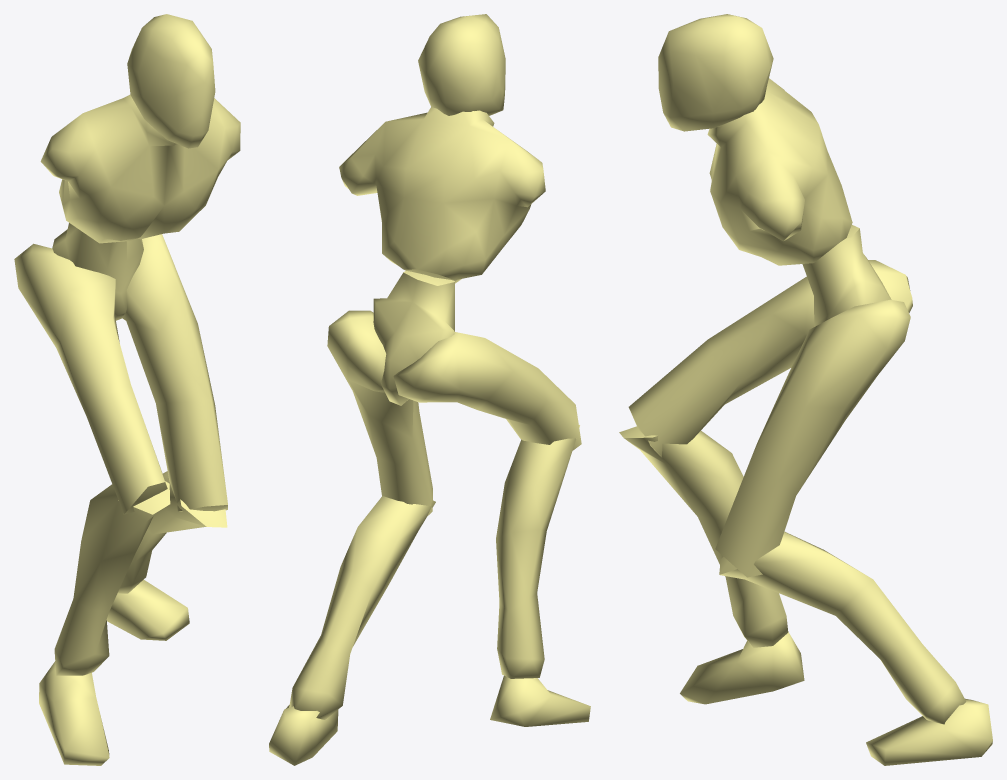
The model's file is filth58.obj.
3 views of the same model, side by side, from view 1: azimuth 30°, elevation 25°; view 2: azimuth 150°, elevation 25°; view 3: azimuth 270°, elevation 25° (orthographic). The views are drawn at different scales.
Parts seen in each view (by area): view 1: Melee_Husk; view 2: Melee_Husk; view 3: Melee_Husk.
Part boxes in pixels (bbox=[...]): Melee_Husk: bbox=[14, 14, 240, 765]; Melee_Husk: bbox=[269, 14, 590, 765]; Melee_Husk: bbox=[619, 14, 992, 765].
Size of the model in its own units: 22.1 by 69.57 by 32.31.
